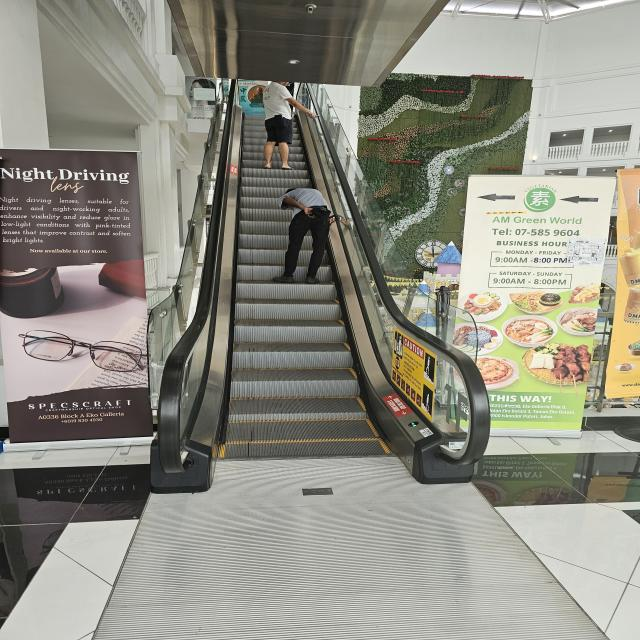escalator: (206, 108, 381, 464)
footpath: (3, 485, 640, 640)
obstacle: (446, 157, 640, 458), (0, 143, 148, 479)
person: (272, 188, 332, 284), (262, 80, 317, 170)
